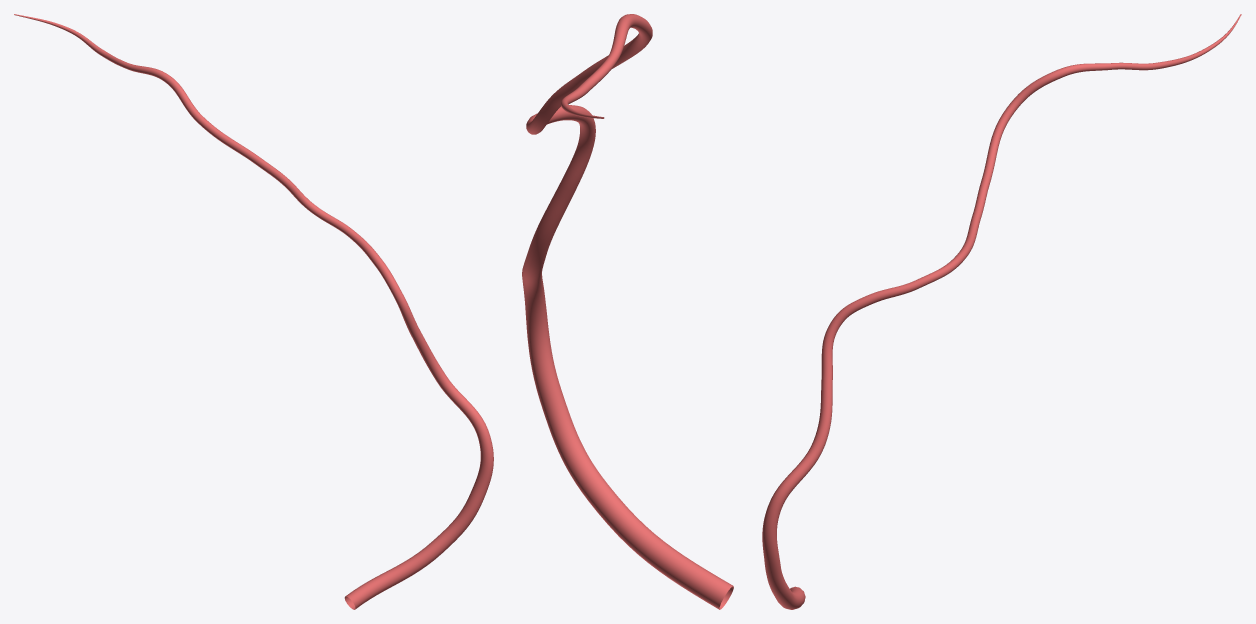
Rendered from Artery_central_sulcus_left.glb.
3 renders of one model, left to right at view 1: azimuth 30°, elevation 25°; view 2: azimuth 150°, elevation 25°; view 3: azimuth 270°, elevation 25°, orthographic. The views are drawn at different scales.
Parts seen in each view (by area): view 1: Artery_of_central_sulcus.l_BezierCurve.079; view 2: Artery_of_central_sulcus.l_BezierCurve.079; view 3: Artery_of_central_sulcus.l_BezierCurve.079.
Boxes of the visible parts, <box> form: Artery_of_central_sulcus.l_BezierCurve.079: <box>14,14,493,609</box>; Artery_of_central_sulcus.l_BezierCurve.079: <box>522,14,733,609</box>; Artery_of_central_sulcus.l_BezierCurve.079: <box>762,14,1241,609</box>.
Bounding box in the file's own units: 0.0289 × 0.0504 × 0.0421.
